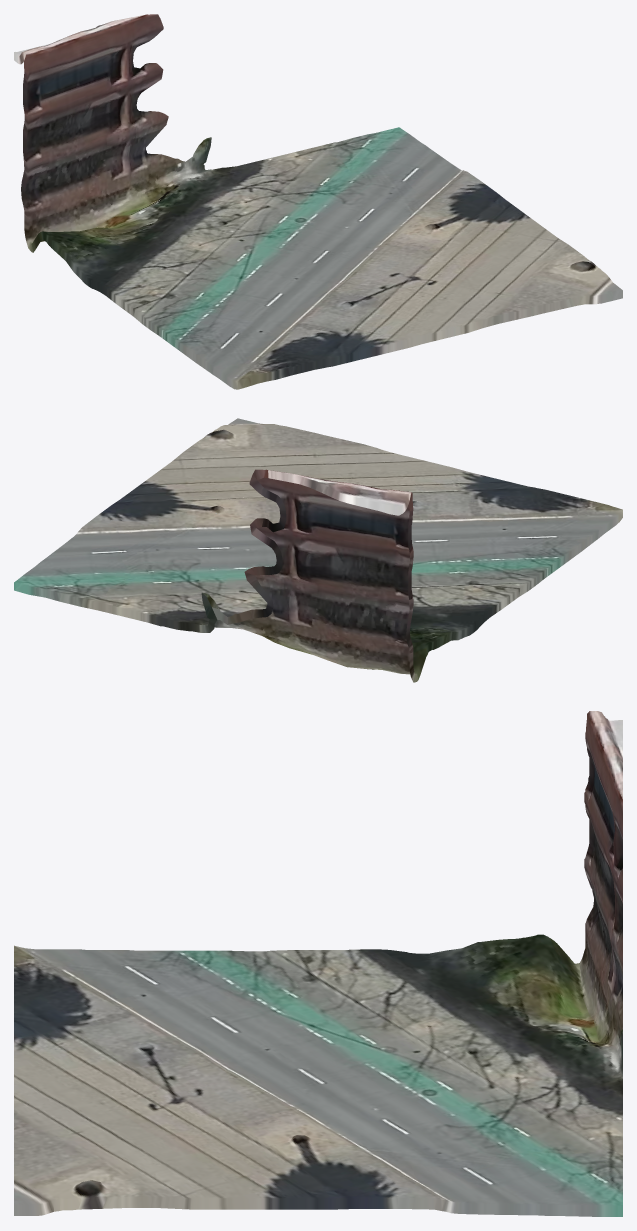
File: z20-167770-405195-h0-yup-uvflip-v3-world.glb
The picture shows the model from 3 angles, top to bottom: view 1: azimuth 30°, elevation 25°; view 2: azimuth 150°, elevation 25°; view 3: azimuth 270°, elevation 25°; orthographic projection. The views are drawn at different scales.
Bounding box in the file's own units: 30.16 × 14.52 × 30.32.
1 material, 1 textured.
